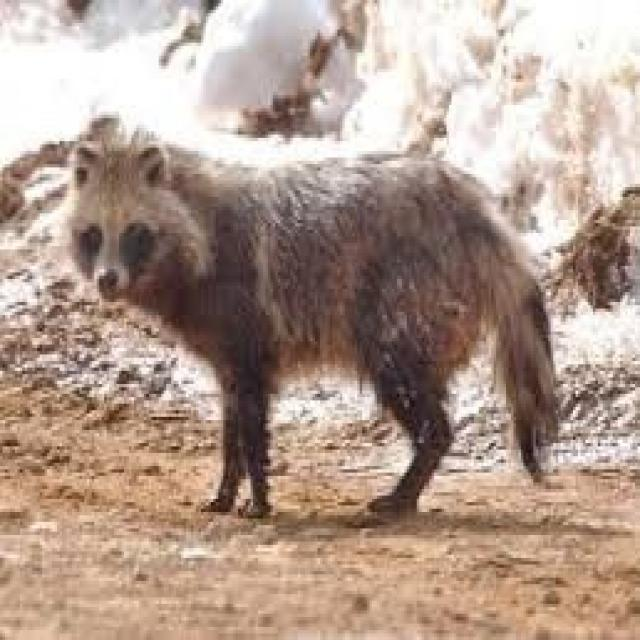racoon: (70, 111, 565, 522)
